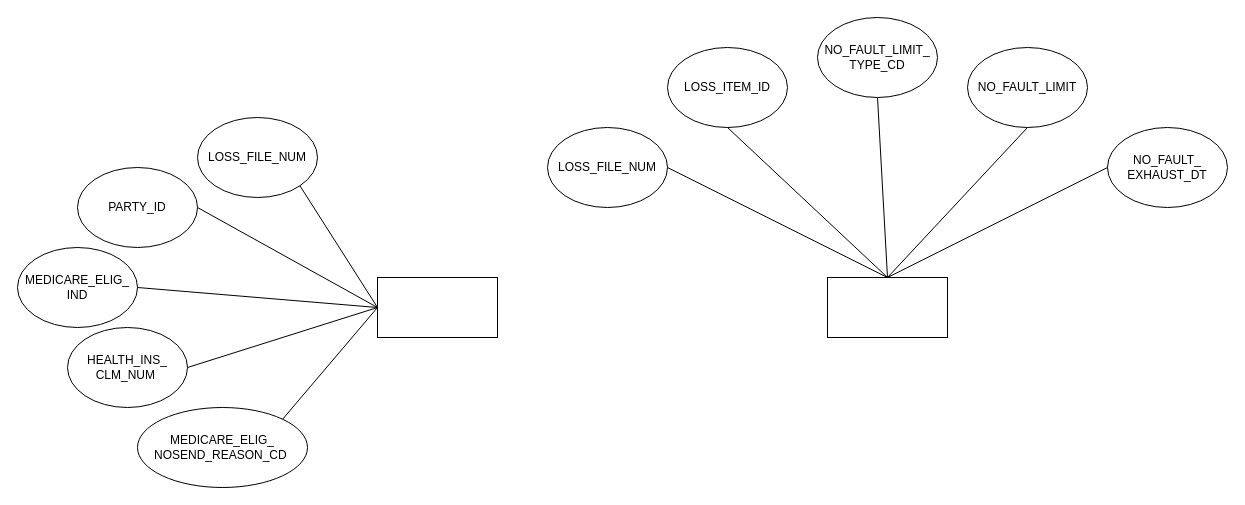
Some shapes in this 1245 by 505 pixel diagram are drawn without their labels. Each missing label, with the centre of its shape:
"INJURY_NEG_ RSRV_PLANNER" goes at (887,307).
"PARTY" goes at (437,307).
